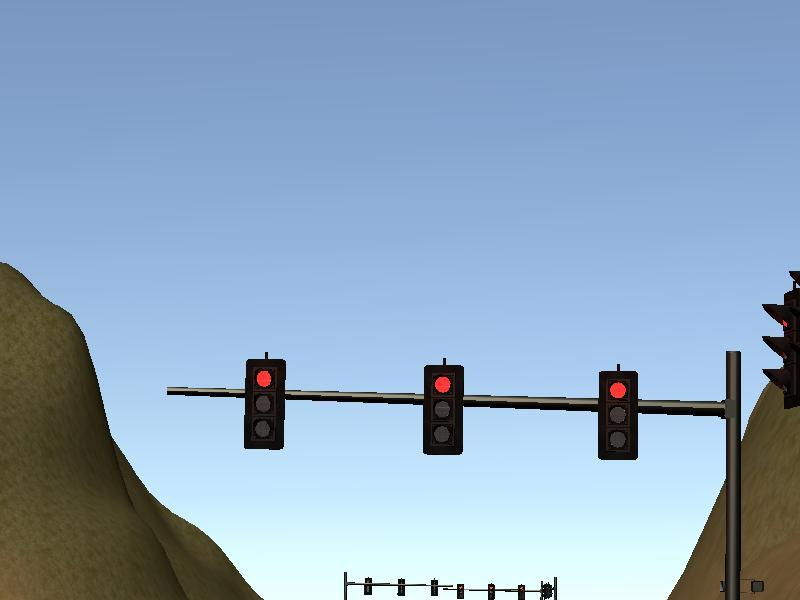Red: (424, 365, 462, 454), (246, 361, 283, 449), (600, 371, 637, 459)
